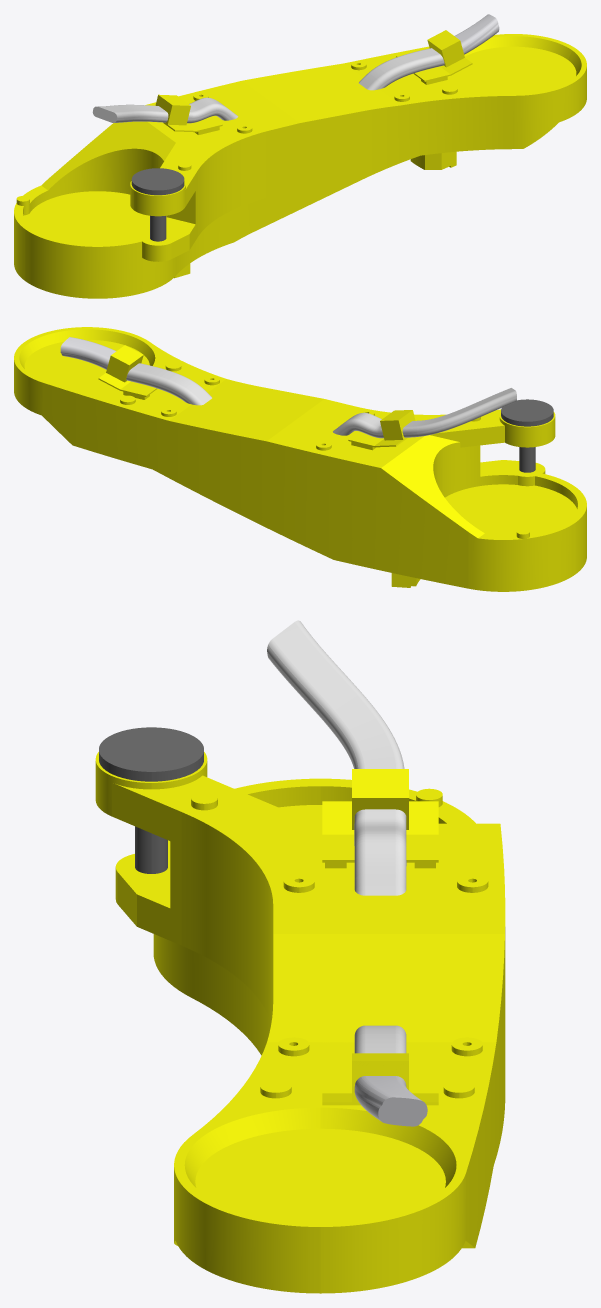
3 views of the same model, one above another, from view 1: azimuth 30°, elevation 25°; view 2: azimuth 150°, elevation 25°; view 3: azimuth 270°, elevation 25° (orthographic). The views are drawn at different scales.
Visible parts, largest first — view 1: Mesh_0; view 2: Mesh_0; view 3: Mesh_0.
Boxes of the visible parts, <box> form: Mesh_0: <box>14,14,586,298</box>; Mesh_0: <box>14,327,586,591</box>; Mesh_0: <box>95,620,505,1293</box>.
Bounding box in the file's own units: 1.43 × 0.4952 × 0.4583.
